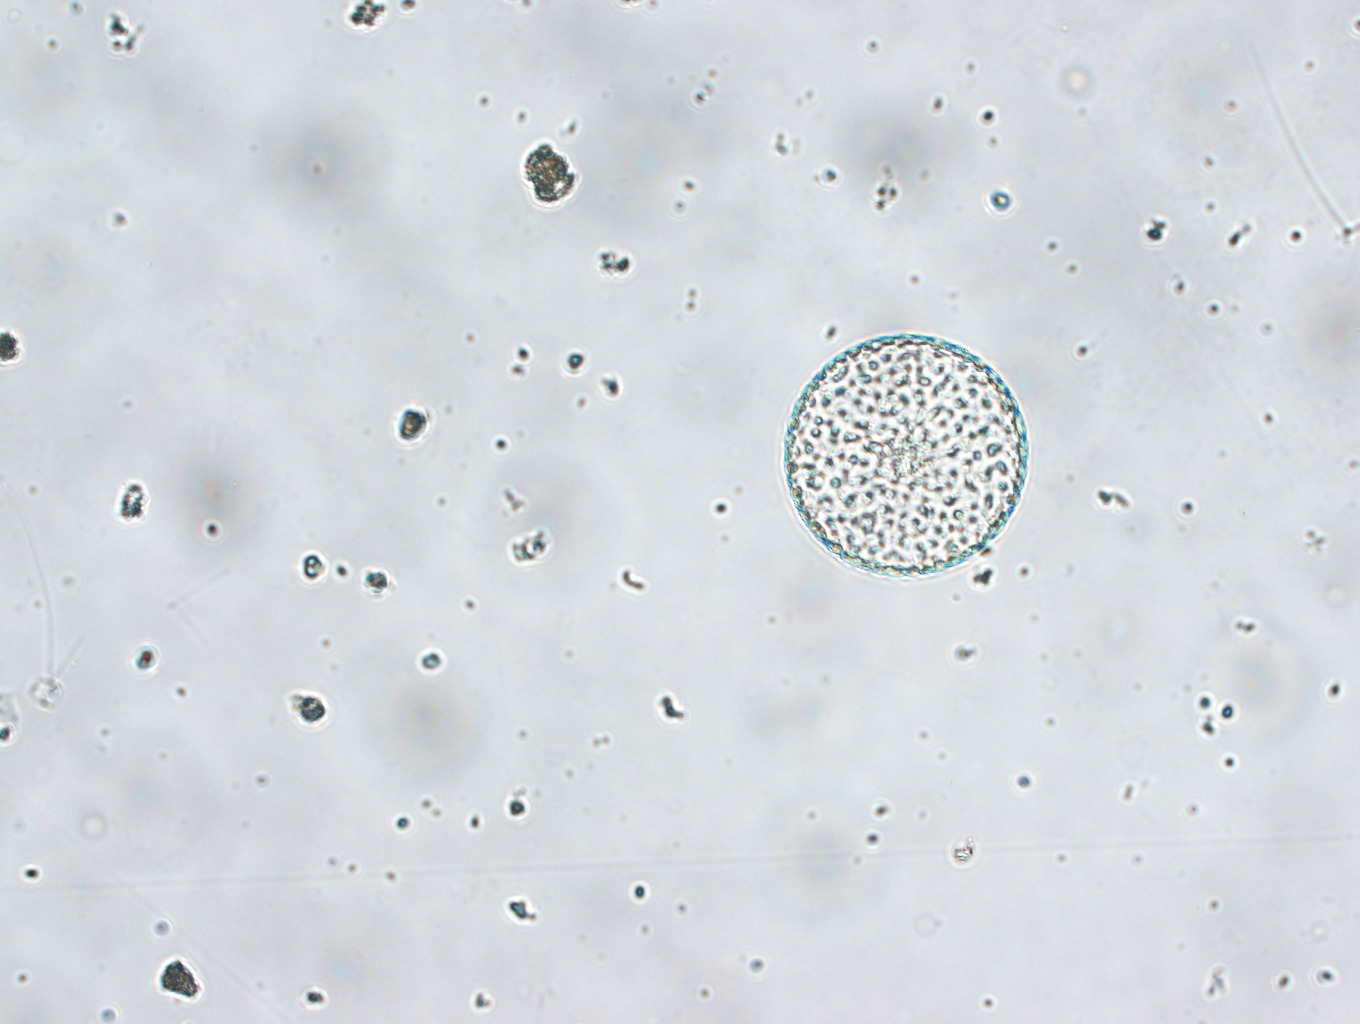coscinodiscus: (777, 326, 1033, 579)
